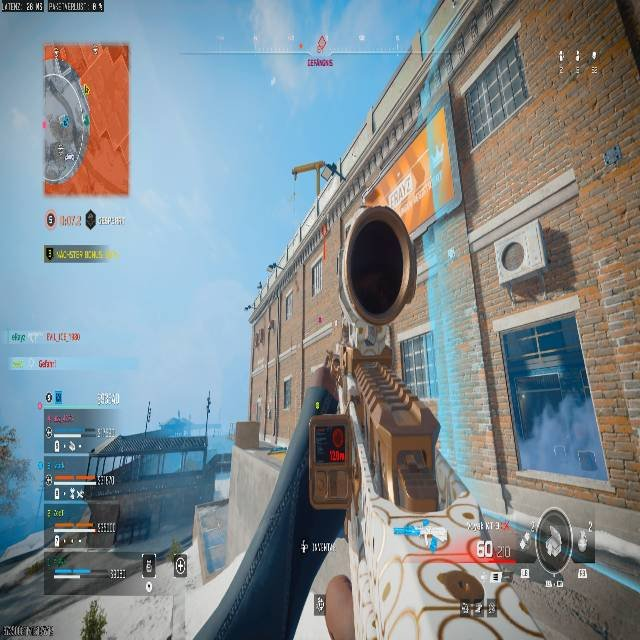head: (536, 509, 571, 558)
